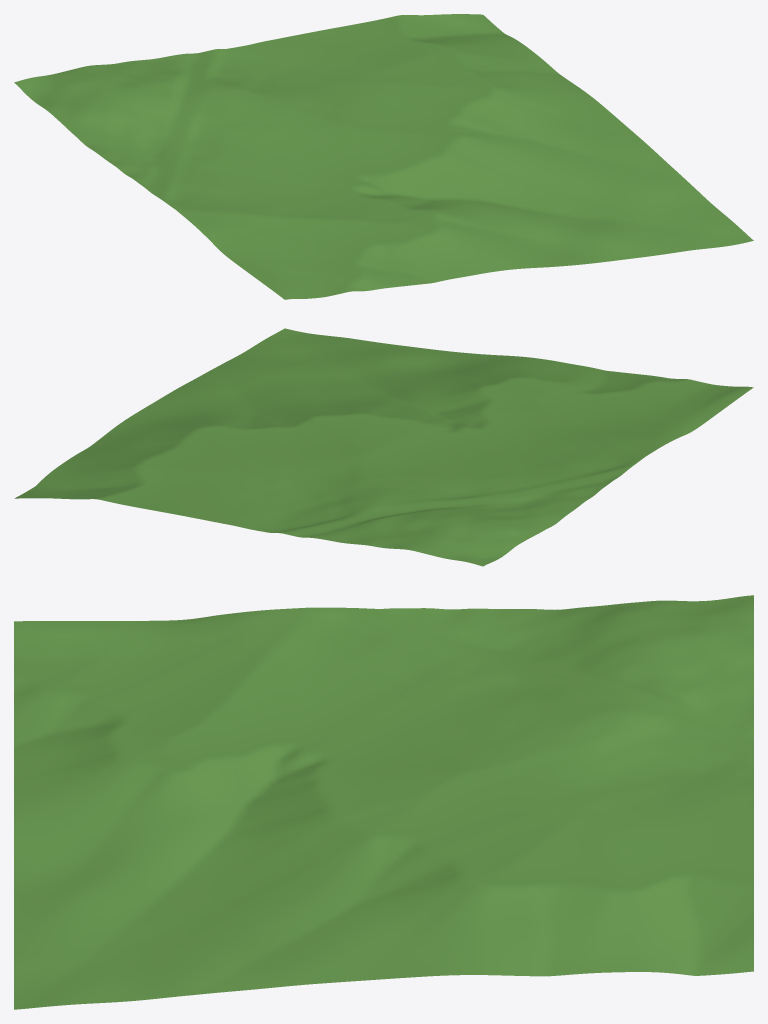
The model's file is SM_Terrain_06_05.fbx.
3 views of the same model, one above another, from view 1: azimuth 30°, elevation 25°; view 2: azimuth 150°, elevation 25°; view 3: azimuth 270°, elevation 25° (orthographic). The views are drawn at different scales.
Parts seen in each view (by area): view 1: SM_Terrain_06_05; view 2: SM_Terrain_06_05; view 3: SM_Terrain_06_05.
Part boxes in pixels (x1,y1,x2,y2): SM_Terrain_06_05: (14,14,753,299); SM_Terrain_06_05: (14,328,753,566); SM_Terrain_06_05: (14,595,753,1009).
Bounding box in the file's own units: 384 × 58.95 × 384.
